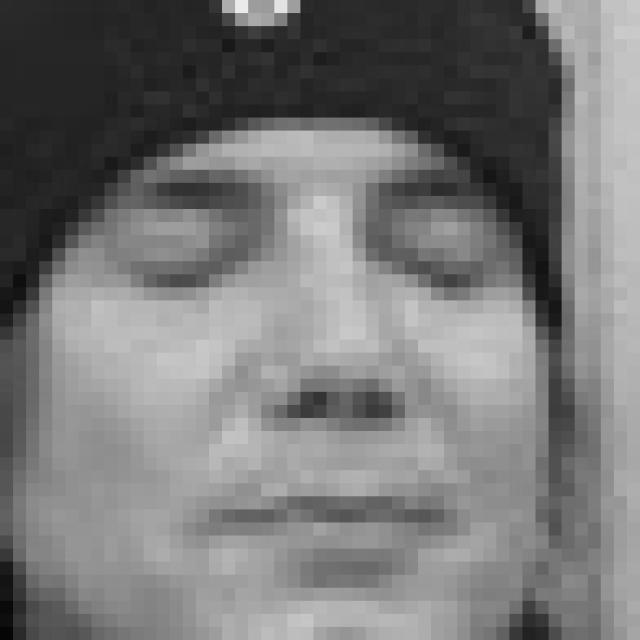real: (34, 4, 526, 640), (110, 196, 508, 318)
